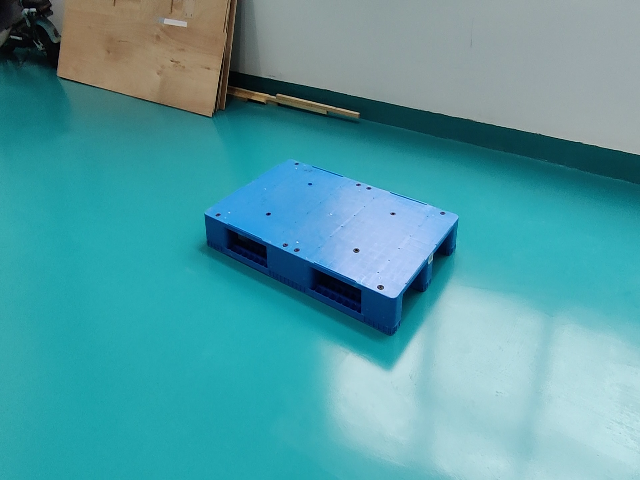block: (263, 244, 311, 296), (361, 286, 401, 332), (204, 213, 228, 254), (425, 252, 434, 284), (451, 221, 458, 252)
front: (392, 217, 459, 334)
hole pallet: (399, 265, 425, 327), (432, 230, 451, 278)
